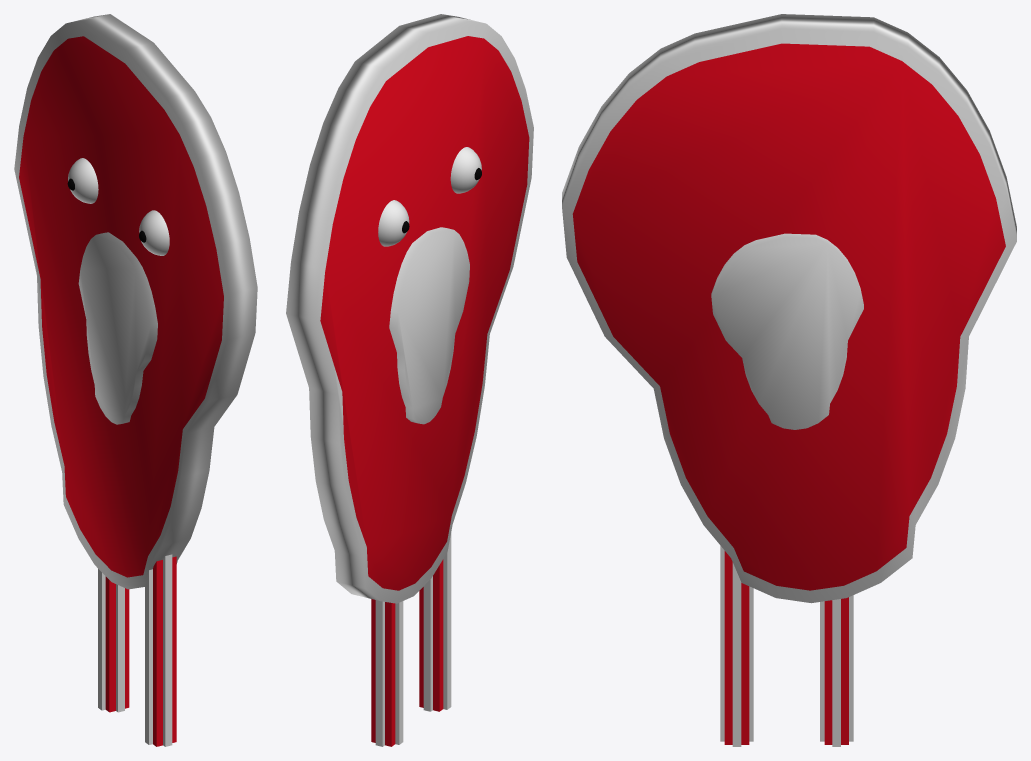
The model's file is meatmen.glb.
3 views of the same model, side by side, from view 1: azimuth 30°, elevation 25°; view 2: azimuth 150°, elevation 25°; view 3: azimuth 270°, elevation 25° (orthographic). The views are drawn at different scales.
Visible parts, largest first — view 1: miesoludz; view 2: miesoludz; view 3: miesoludz.
Part boxes in pixels (x1,y1,x2,y2): miesoludz: (14,14,257,746); miesoludz: (286,14,533,746); miesoludz: (562,14,1016,746).
Size of the model in its own units: 0.3883 by 4.57 by 2.62.
